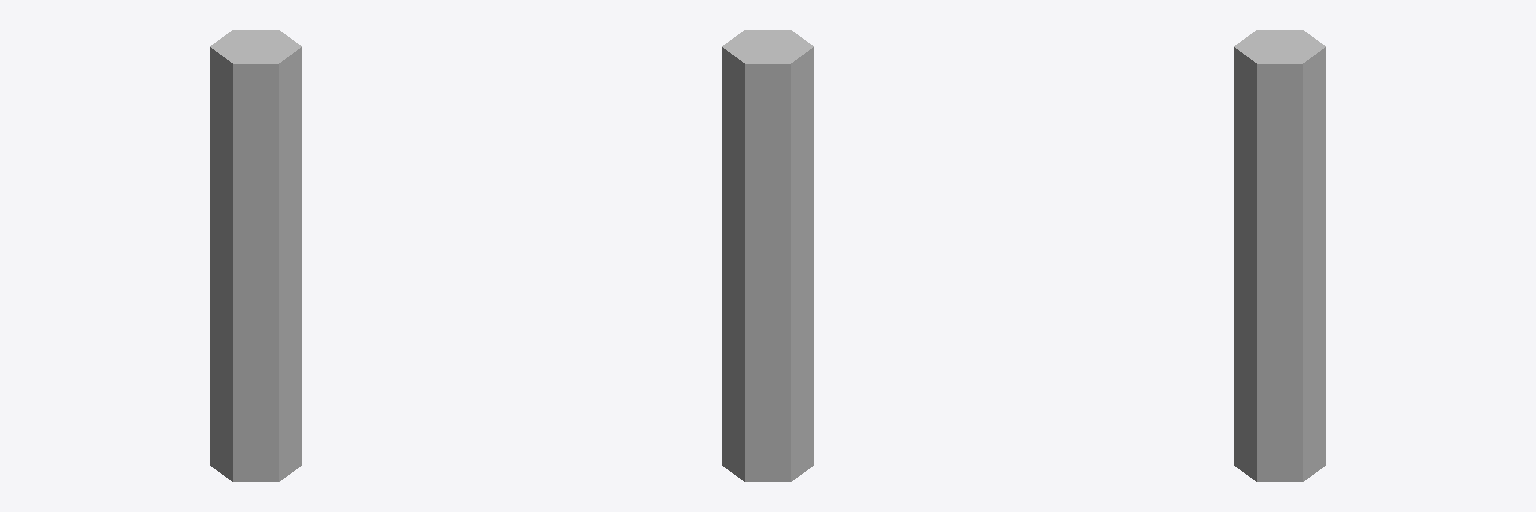
The model's file is PhysicalHandsObjectTube.obj.
The picture shows the model from 3 angles: view 1: azimuth 30°, elevation 25°; view 2: azimuth 150°, elevation 25°; view 3: azimuth 270°, elevation 25°; orthographic projection.
Parts seen in each view (by area): view 1: Tube; view 2: Tube; view 3: Tube.
Boxes of the visible parts, box(x1,y1,x2,y2) form: Tube: box(210, 30, 301, 481); Tube: box(722, 30, 813, 481); Tube: box(1234, 30, 1325, 481).
Size of the model in its own units: 0.3464 by 2 by 0.4.